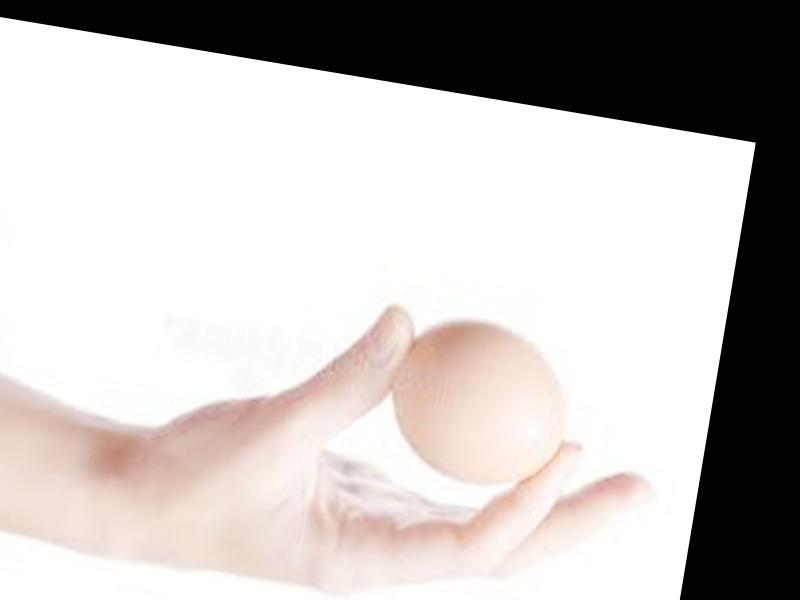Eggs: (377, 309, 578, 493)
